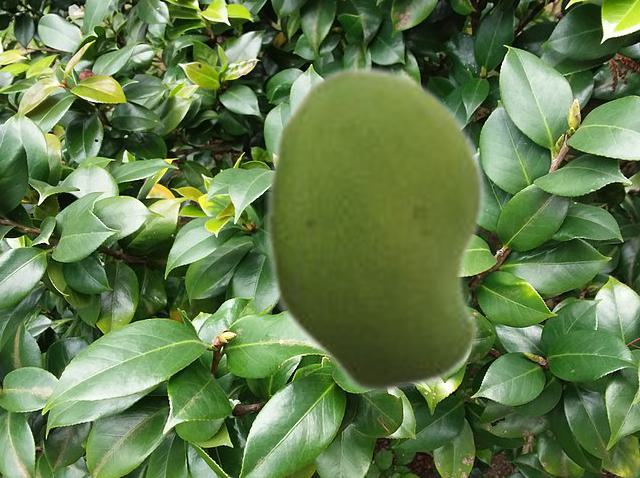green_mango: (264, 64, 486, 396)
